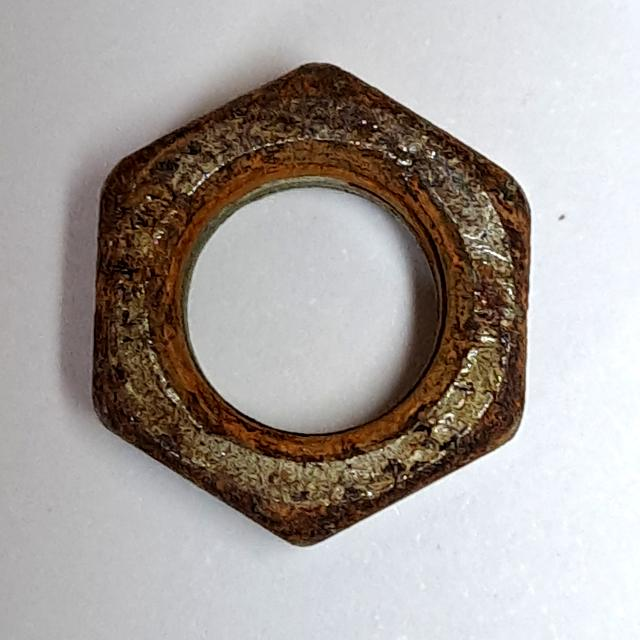Rust: (75, 44, 543, 567)
